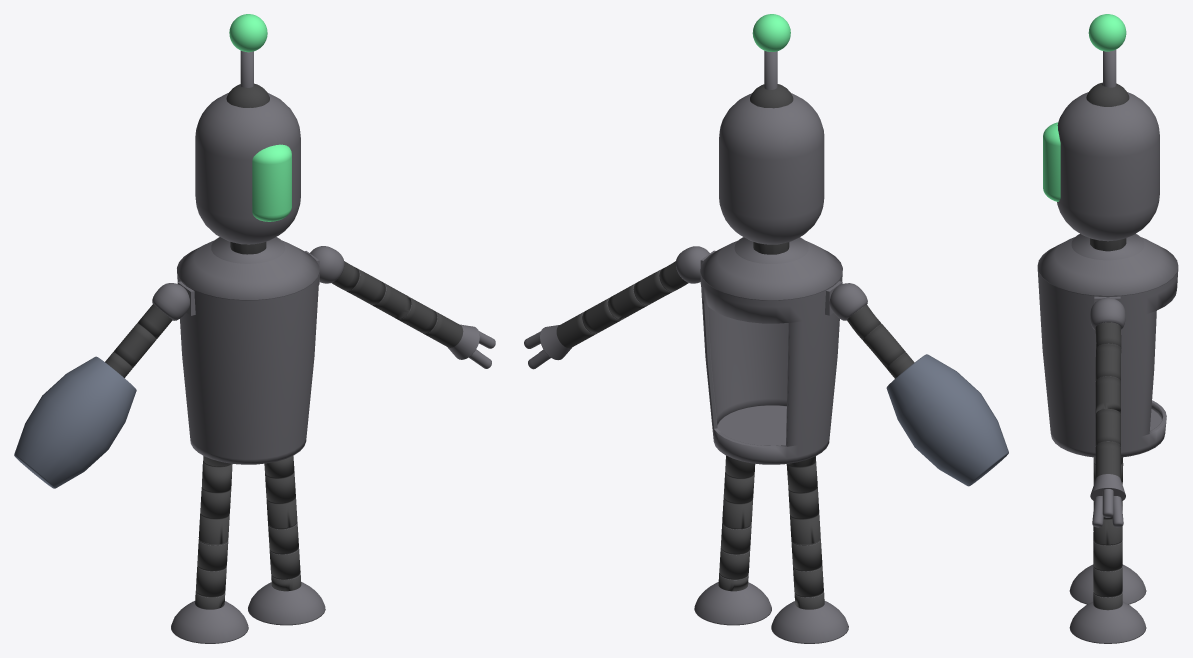
Rendered from Robot (v.1).fbx.
The picture shows the model from 3 angles, left to right: view 1: azimuth 30°, elevation 25°; view 2: azimuth 150°, elevation 25°; view 3: azimuth 270°, elevation 25°; orthographic projection.
Visible parts, largest first — view 1: robot; view 2: robot; view 3: robot.
Boxes of the visible parts, bbox=[...] form: robot: bbox=[14, 14, 495, 643]; robot: bbox=[524, 14, 1008, 643]; robot: bbox=[1037, 14, 1178, 643].
Bounding box in the file's own units: 174 × 210 × 45.21.
